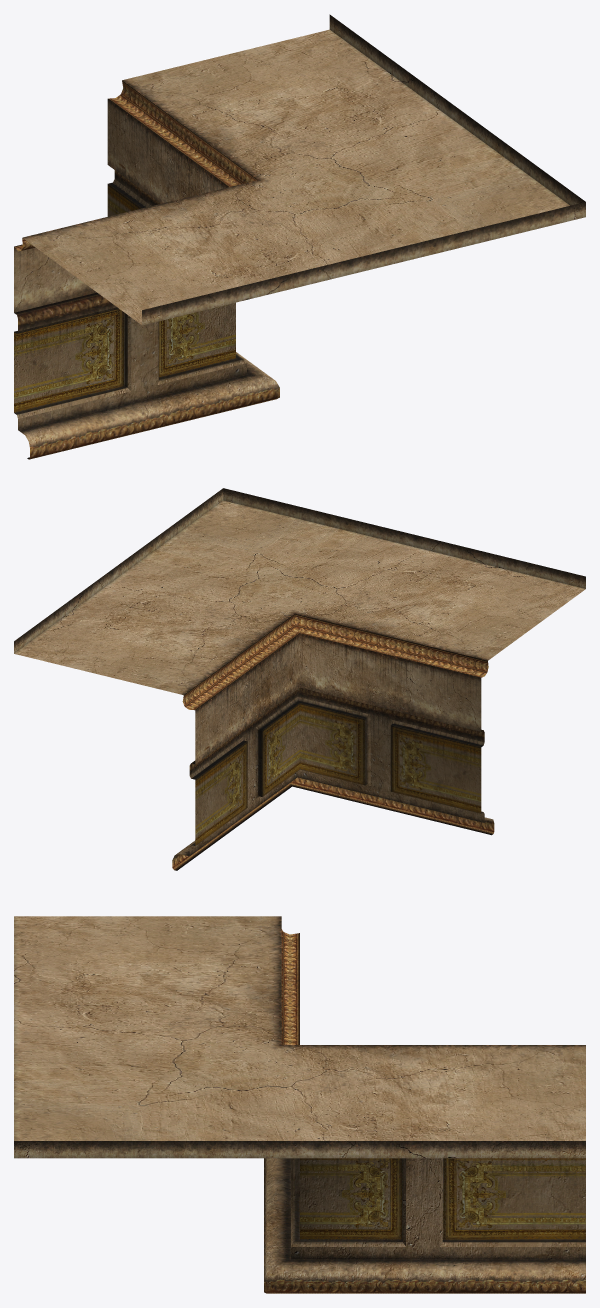
The model's file is corner_convex_short.dae.
3 views of the same model, one above another, from view 1: azimuth 30°, elevation 25°; view 2: azimuth 150°, elevation 25°; view 3: azimuth 270°, elevation 25° (orthographic). The views are drawn at different scales.
Parts seen in each view (by area): view 1: corner_convex_short; view 2: corner_convex_short; view 3: corner_convex_short.
Boxes of the visible parts, x1=… form: corner_convex_short: x1=14, y1=14, x2=585, y2=459; corner_convex_short: x1=14, y1=488, x2=585, y2=870; corner_convex_short: x1=14, y1=916, x2=585, y2=1293.
Size of the model in its own units: 4 by 2 by 4.
